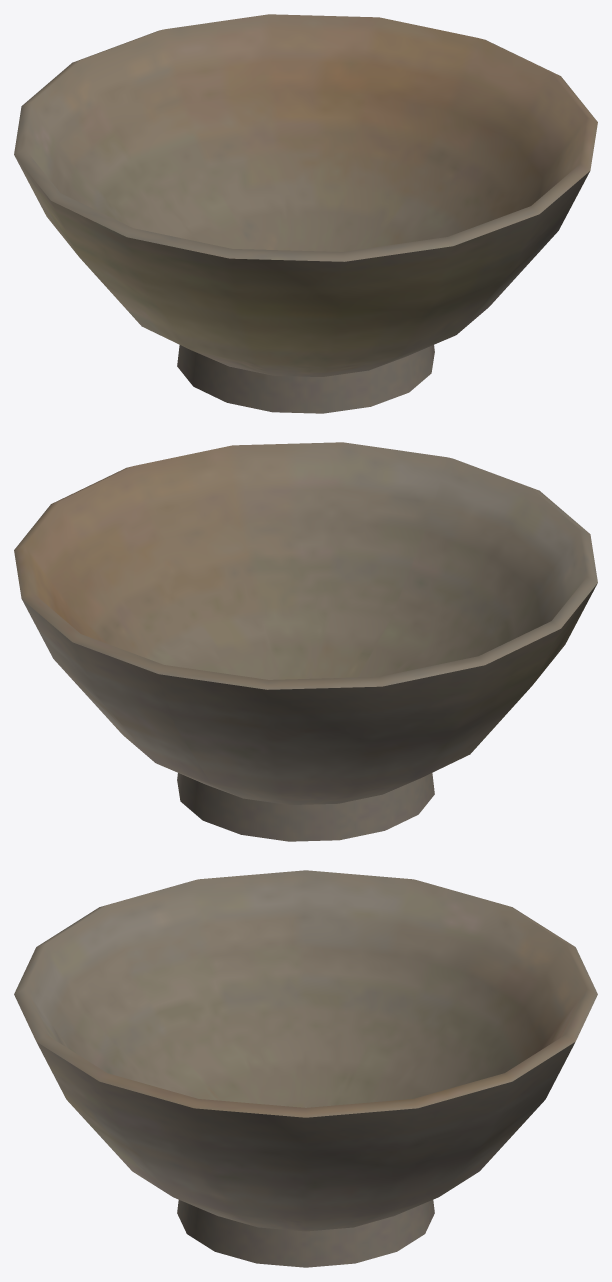
The model's file is Tableware_Bowl01.fbx.
3 views of the same model, one above another, from view 1: azimuth 30°, elevation 25°; view 2: azimuth 150°, elevation 25°; view 3: azimuth 270°, elevation 25° (orthographic).
Parts seen in each view (by area): view 1: Tableware_Bowl_01; view 2: Tableware_Bowl_01; view 3: Tableware_Bowl_01.
Boxes of the visible parts, x1=… form: Tableware_Bowl_01: x1=14, y1=14, x2=597, y2=413; Tableware_Bowl_01: x1=14, y1=442, x2=597, y2=841; Tableware_Bowl_01: x1=14, y1=870, x2=597, y2=1267.
Size of the model in its own units: 19.41 by 8.22 by 19.41.
